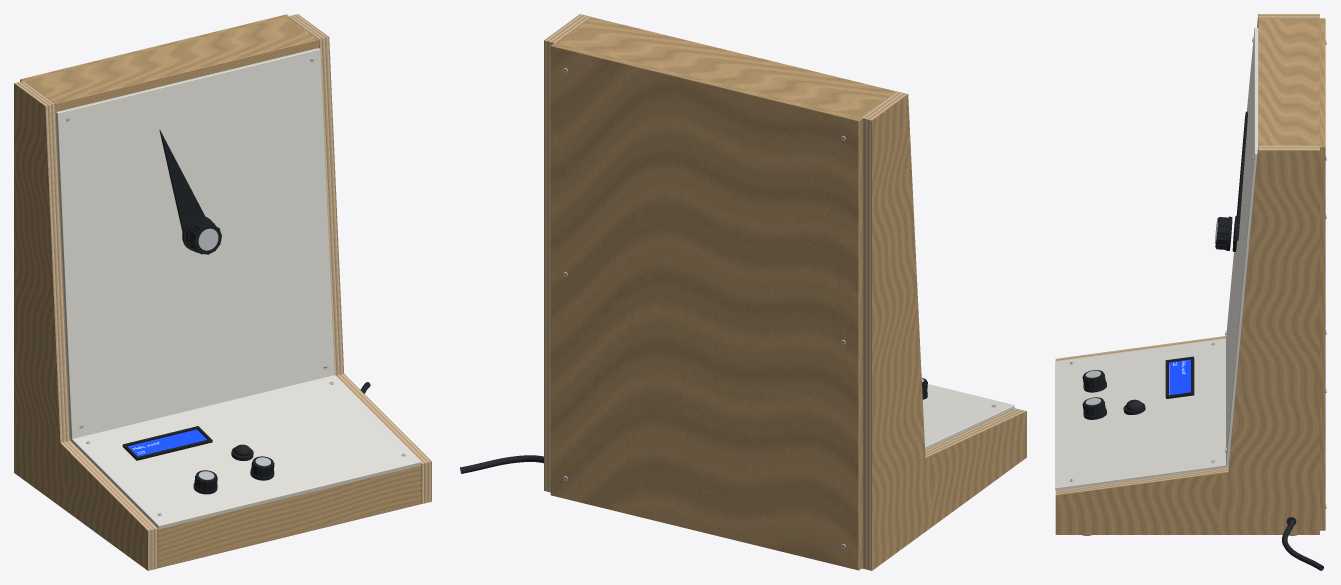
File: sublime-knob.glb
3 renders of one model, left to right at view 1: azimuth 30°, elevation 25°; view 2: azimuth 150°, elevation 25°; view 3: azimuth 270°, elevation 25°, orthographic. The views are drawn at different scales.
Parts seen in each view (by area): view 1: Upright white panel, White control console, Left ply 0, Top plywood rail, Front plywood rail, Long black pointer, Bottom plywood, LCD glass, Right ply 6, Left ply 5, Right ply 2, Left ply 2 (+13 smaller); view 2: Full birch rear cover, Left ply 0, Top plywood rail, White control console, Left ply 1, Left ply 2, Left ply 3, Left ply 4, Left ply 5, Left ply 6, Right ply 4, Right ply 6 (+3 smaller); view 3: Right ply 8, White control console, Top plywood rail, Upright white panel, Full birch rear cover, LCD glass, Long black pointer, USB cable.
Boxes of the visible parts, x1,y1,x2,y2 form: Upright white panel: (56,48,334,439); White control console: (71,375,421,528); Left ply 0: (14,83,149,570); Top plywood rail: (25,17,318,112); Front plywood rail: (158,465,421,564); Long black pointer: (159,129,205,232); Bottom plywood: (158,496,421,568); LCD glass: (128,429,206,456); Right ply 6: (295,14,429,502); Left ply 5: (20,81,154,569); Right ply 2: (290,15,425,503); Left ply 2: (16,82,151,570); Full birch rear cover: (550,43,862,570); Left ply 0: (870,94,1026,570); Top plywood rail: (556,17,895,117); White control console: (922,384,1014,449); Left ply 1: (869,93,1025,570); Left ply 2: (868,93,1023,569); Left ply 3: (867,93,1022,569); Left ply 4: (865,92,1020,569); Left ply 5: (864,92,1019,569); Left ply 6: (863,92,1018,568); Right ply 4: (549,15,586,492); Right ply 6: (546,14,583,491); Right ply 8: (1055,150,1319,534); White control console: (1055,338,1228,490); Top plywood rail: (1258,19,1319,145); Upright white panel: (1226,27,1258,466); Full birch rear cover: (1319,18,1325,530); LCD glass: (1169,359,1190,394); Long black pointer: (1236,111,1247,240); USB cable: (1282,519,1323,570).
Size of the model in its own units: 0.4269 by 0.4555 by 0.2855.
Materials: 26 (1 with a texture image).
